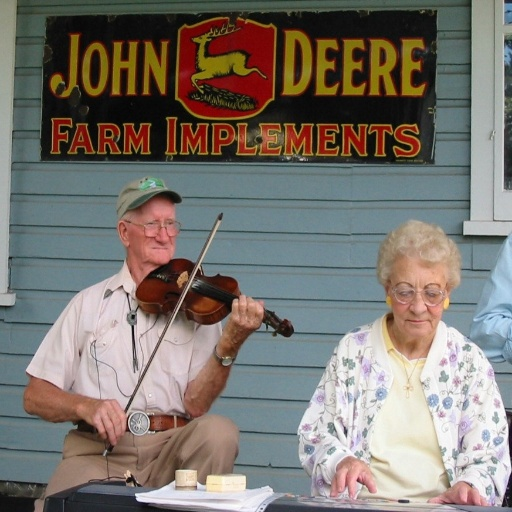hand: (63, 398, 125, 455), (221, 292, 266, 348), (326, 455, 377, 499), (425, 481, 492, 509)
